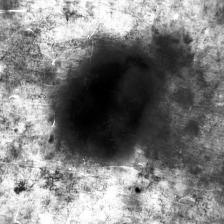Benign Marking or Mole: (64, 51, 152, 150)
